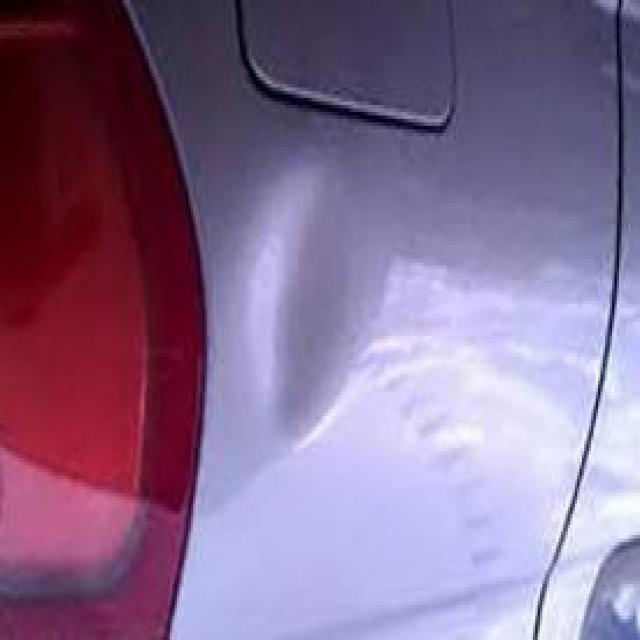dent: (230, 144, 380, 482)
